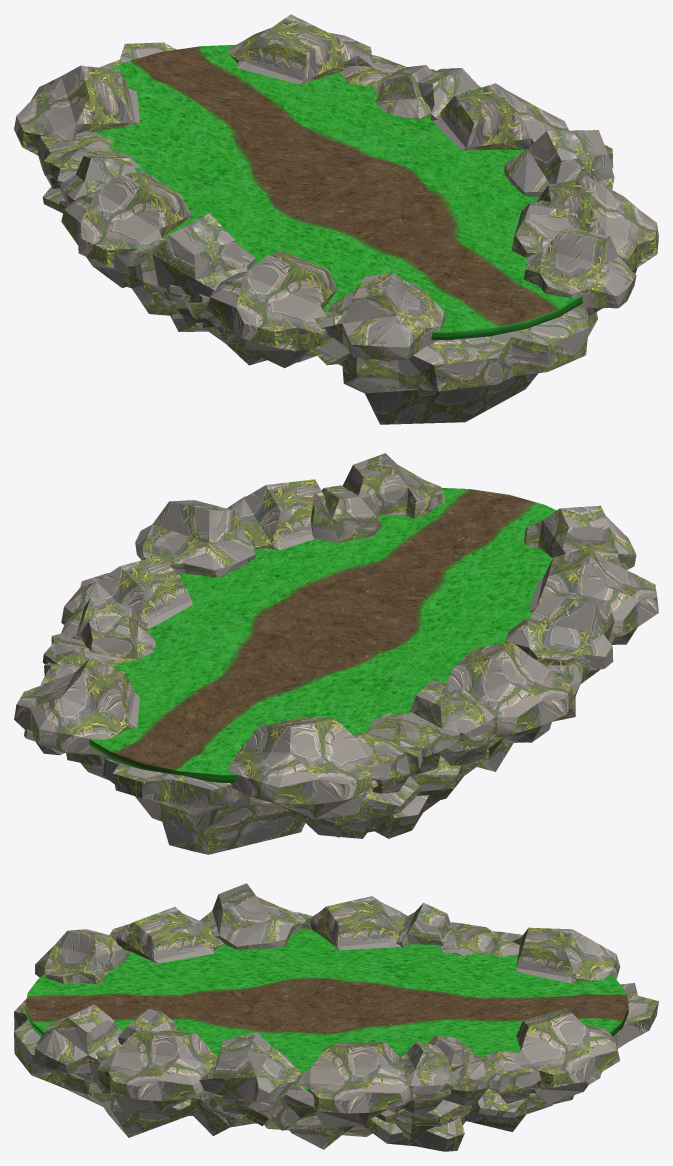
File: TERRAIN PIVOT SORTED.FBX
The picture shows the model from 3 angles, top to bottom: view 1: azimuth 30°, elevation 25°; view 2: azimuth 150°, elevation 25°; view 3: azimuth 270°, elevation 25°; orthographic projection. The views are drawn at different scales.
Parts seen in each view (by area): view 1: Box039; view 2: Box039; view 3: Box039.
Boxes of the visible parts, x1=… form: Box039: x1=14, y1=14, x2=658, y2=424; Box039: x1=14, y1=453, x2=658, y2=854; Box039: x1=14, y1=883, x2=658, y2=1151.
Bounding box in the file's own units: 229 × 82.36 × 319.
2 materials, 2 textured.
